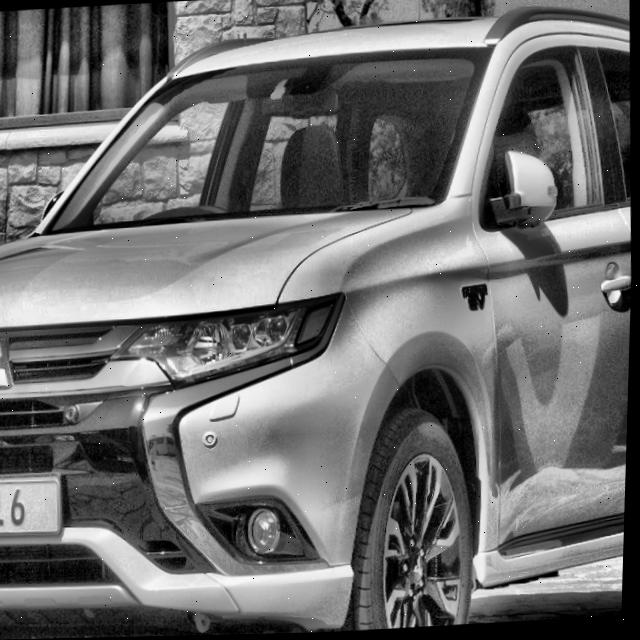light_vehicle: (0, 3, 640, 640)
